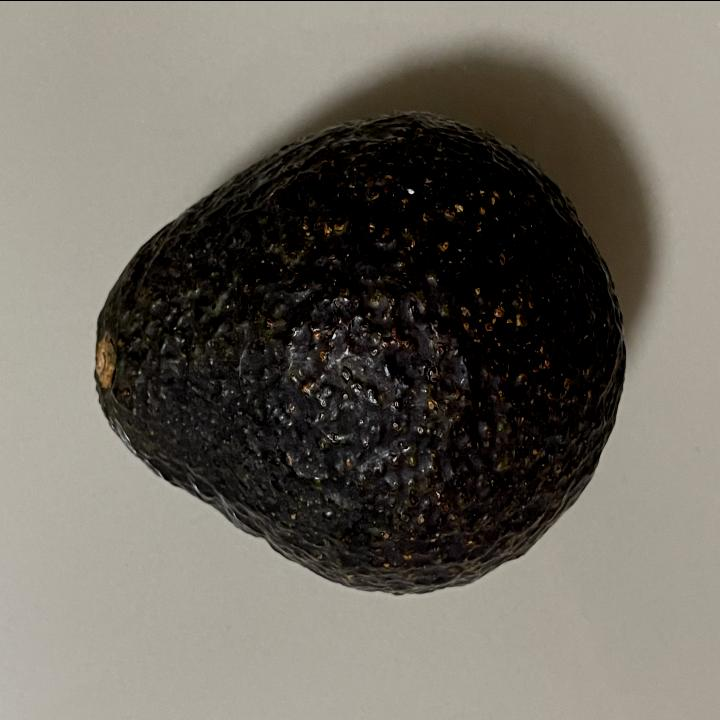Level2: (89, 102, 633, 598)
